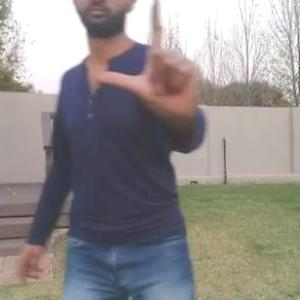land_hand: (90, 0, 205, 125)
